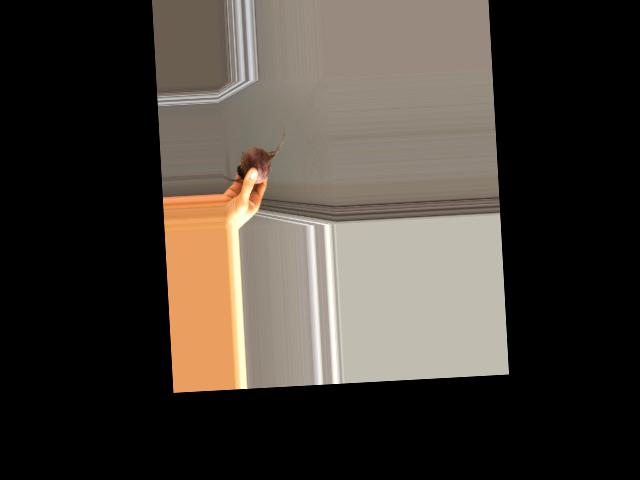beet: (219, 126, 288, 185)
